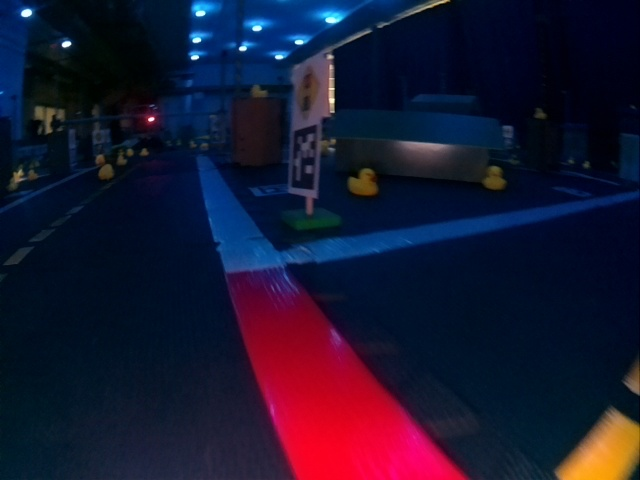Duckie: (347, 170, 378, 196), (485, 166, 505, 191), (99, 166, 115, 179)
QR code: (292, 124, 316, 191), (252, 184, 289, 197)
Signal sign: (294, 65, 323, 119)
